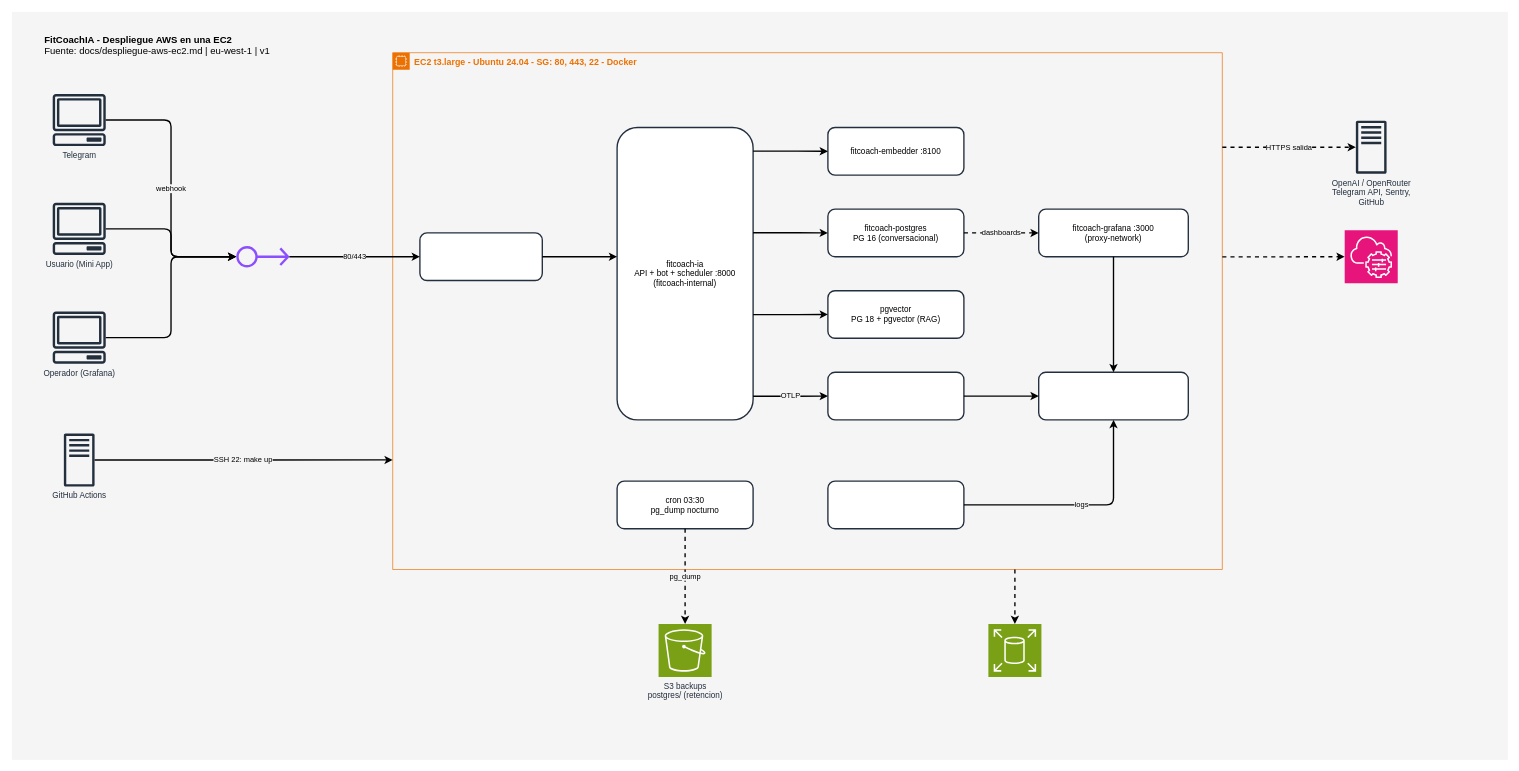
The diagram is 1519 pixels wide and 771 high, and some of its shapes have lost their labels. Each missing label, with the centre of its shape:
Alloy logs via socket Docker: the point at 895,504
EBS gp3 60 GB cifrado snapshots DLM 03:00 UTC: the point at 1014,650
Elastic IP DNS fitcoach / grafana.fitcoach: the point at 262,256
fitcoach-otel-collector :4317: the point at 895,395
Loki - Tempo - Prometheus (observability): the point at 1113,395
nginx-proxy-manager :80 :443 (proxy-network): the point at 481,256
Systems Manager Session Manager: the point at 1371,256
